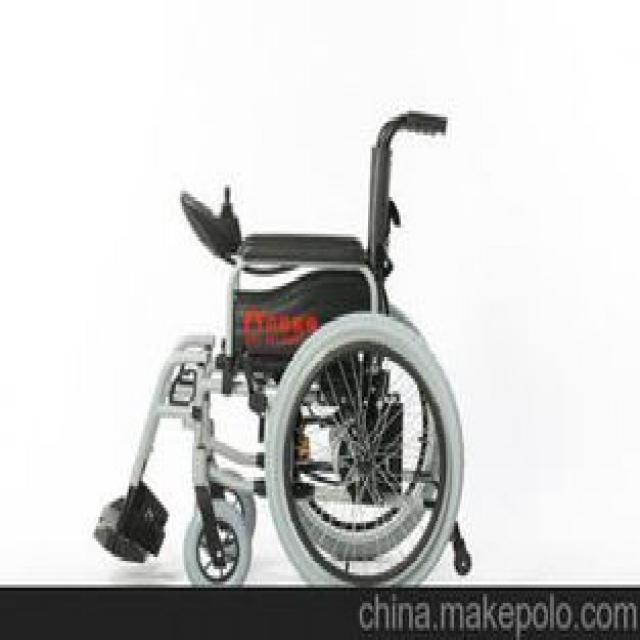wheelchair: (63, 96, 497, 578)
